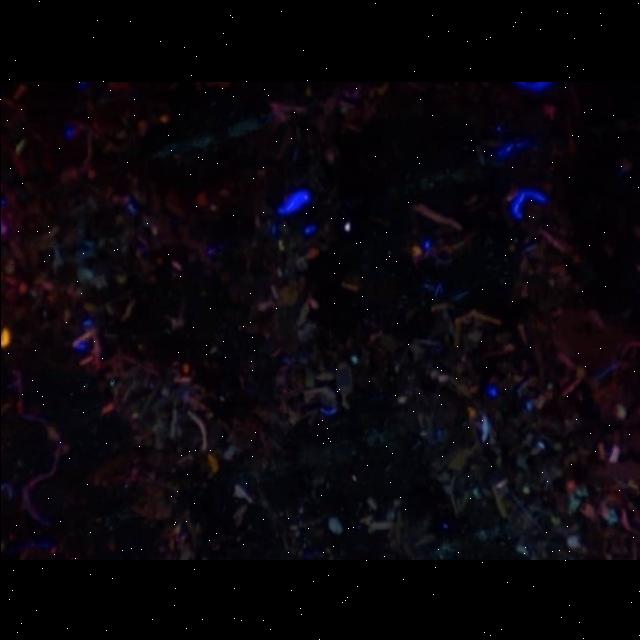Fibre: (326, 515, 344, 537)
